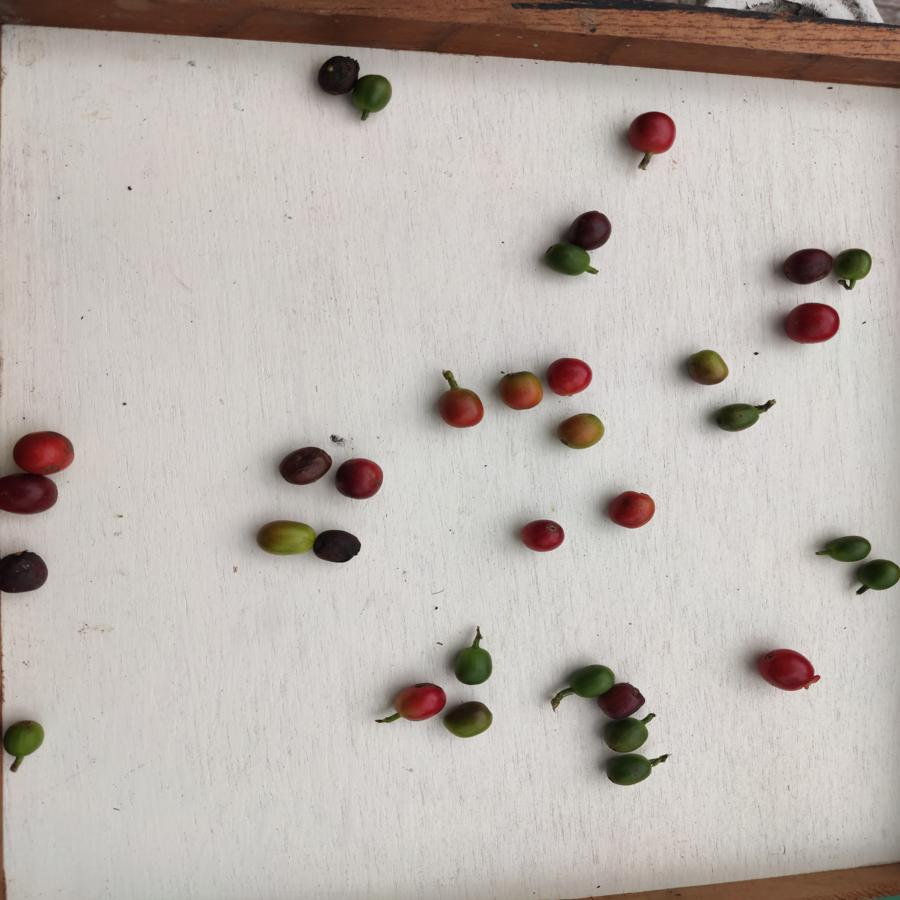Inmaduro: (445, 698, 496, 745), (3, 717, 51, 762), (599, 715, 657, 752), (602, 752, 657, 787), (858, 555, 900, 600), (542, 242, 592, 279), (452, 642, 493, 687), (715, 398, 762, 436), (832, 245, 873, 286), (353, 73, 395, 113), (569, 663, 614, 699), (824, 532, 874, 563)
Maduro: (756, 645, 818, 698), (783, 298, 843, 352), (12, 428, 77, 476), (625, 108, 682, 156), (391, 680, 446, 728), (607, 487, 657, 531), (545, 355, 594, 398), (435, 389, 484, 431), (518, 515, 566, 555)
Pinton: (555, 409, 607, 455), (496, 370, 545, 417), (255, 518, 315, 556), (684, 346, 735, 389)
Sobremaduro: (1, 474, 65, 521), (277, 444, 332, 488), (1, 548, 51, 596), (335, 458, 388, 502), (782, 244, 832, 288), (311, 527, 367, 565), (565, 208, 613, 249), (318, 49, 354, 98), (602, 683, 647, 717)
